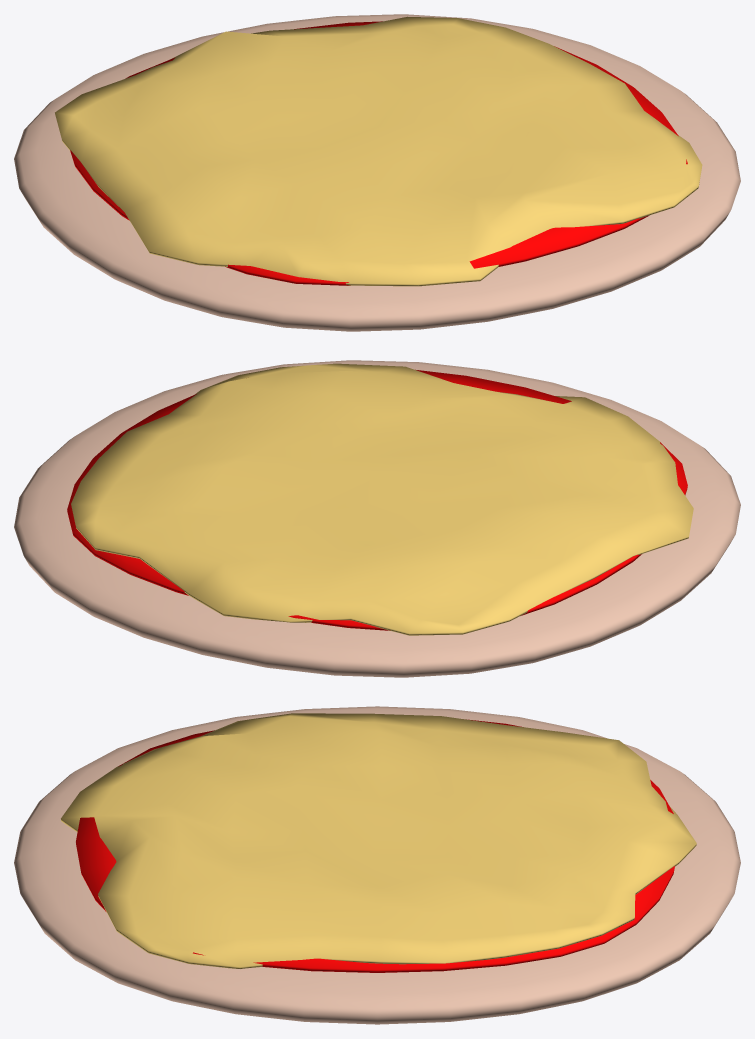
The model's file is doughCheese.fbx.
3 views of the same model, one above another, from view 1: azimuth 30°, elevation 25°; view 2: azimuth 150°, elevation 25°; view 3: azimuth 270°, elevation 25° (orthographic).
Visible parts, largest first — view 1: Cube.003, Cube.001, Cube.002; view 2: Cube.003, Cube.001, Cube.002; view 3: Cube.003, Cube.001, Cube.002.
Boxes of the visible parts, x1,y1,x2,y2 form: Cube.003: (55, 16, 702, 286); Cube.001: (14, 14, 740, 331); Cube.002: (70, 21, 687, 285); Cube.003: (71, 363, 693, 635); Cube.001: (14, 360, 740, 677); Cube.002: (67, 369, 687, 630); Cube.003: (61, 713, 696, 968); Cube.001: (14, 706, 740, 1024); Cube.002: (76, 719, 674, 972).
Bounding box in the file's own units: 388 × 34.26 × 388.
